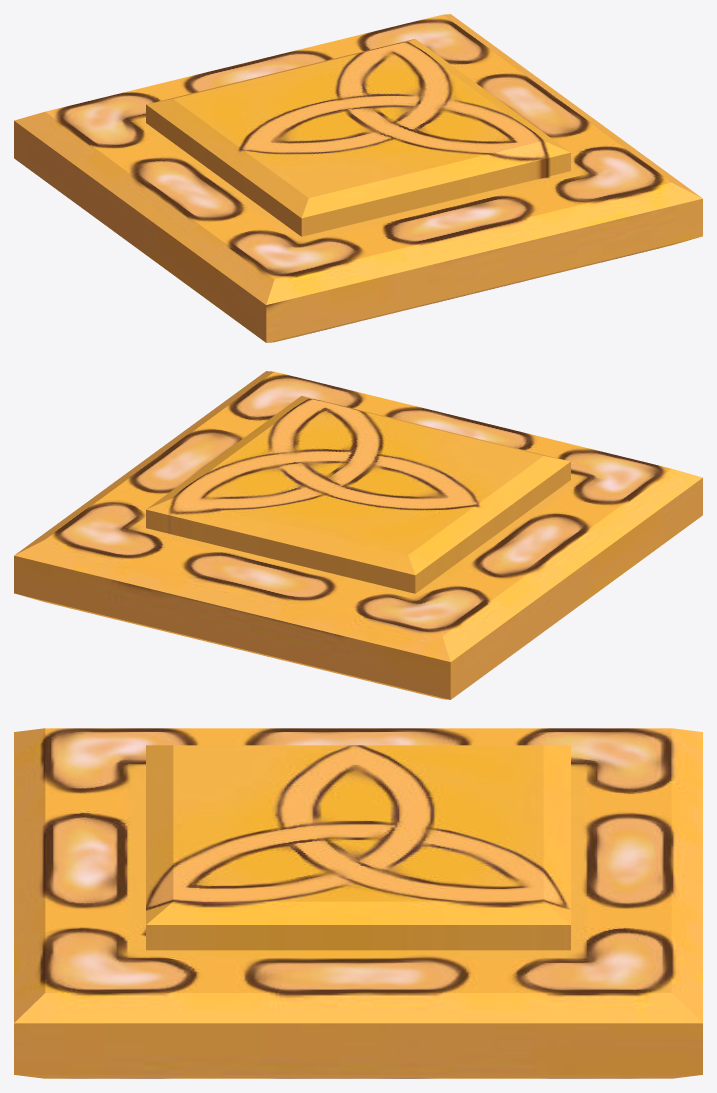
The model's file is faith_token.glb.
3 renders of one model, top to bottom at view 1: azimuth 30°, elevation 25°; view 2: azimuth 150°, elevation 25°; view 3: azimuth 270°, elevation 25°, orthographic. The views are drawn at different scales.
Parts seen in each view (by area): view 1: FaithToken; view 2: FaithToken; view 3: FaithToken.
Part boxes in pixels (x1,y1,x2,y2): FaithToken: (14, 14, 702, 342); FaithToken: (14, 371, 702, 699); FaithToken: (14, 728, 702, 1078).
Size of the model in its own units: 2 by 0.4826 by 2.
Materials: 1 (1 with a texture image).
